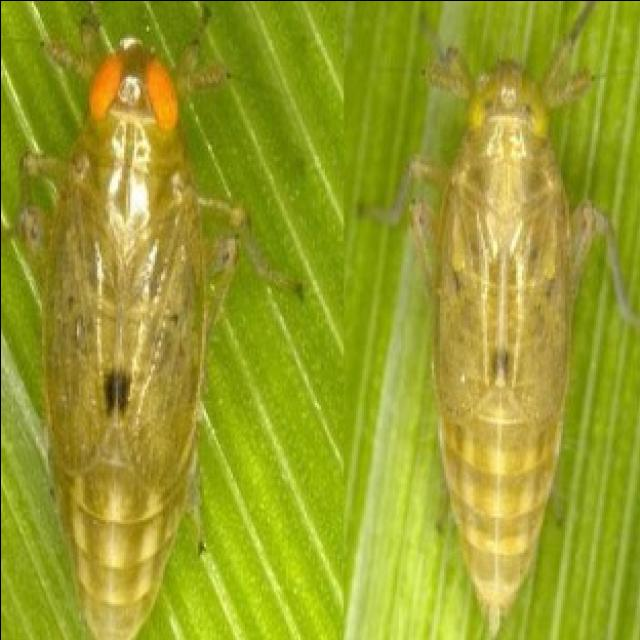brown plant hopper: (21, 37, 244, 638), (412, 62, 624, 626), (201, 2, 211, 51)
